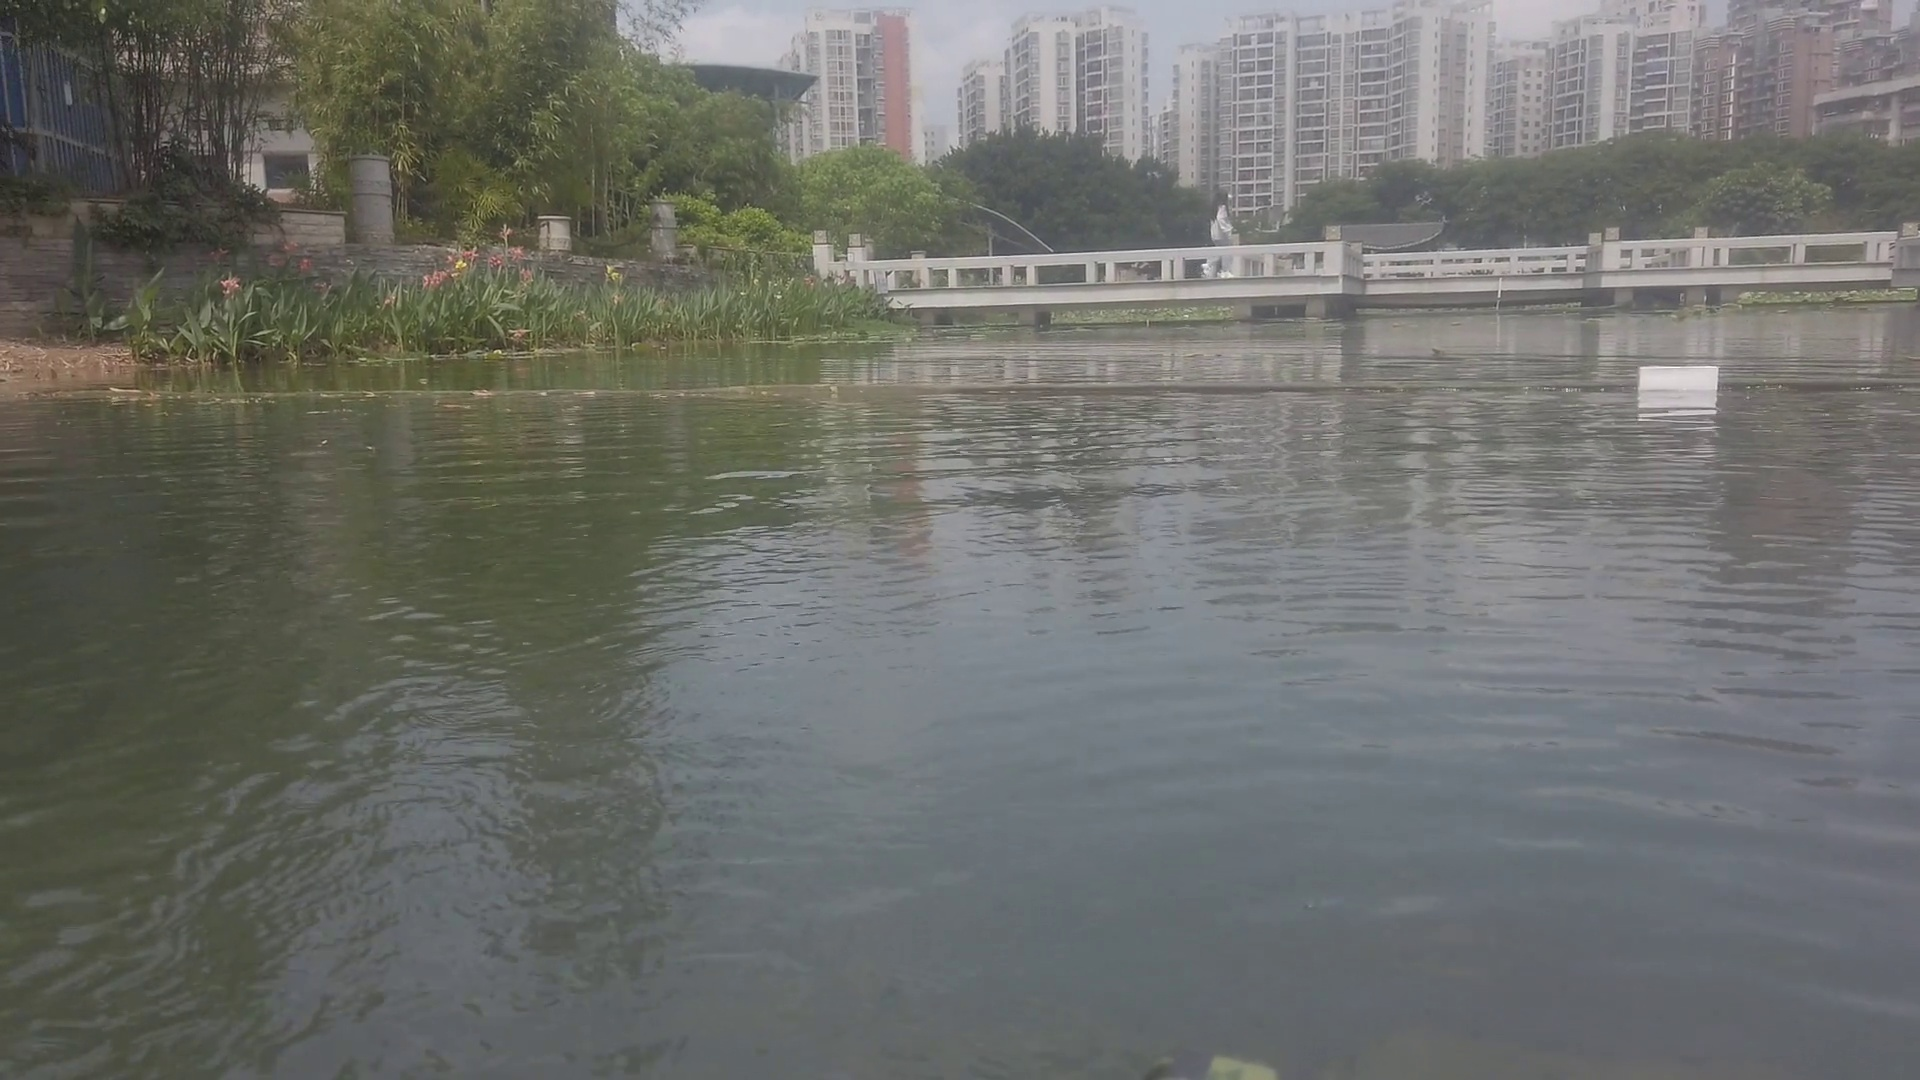carton: (1631, 361, 1722, 389)
